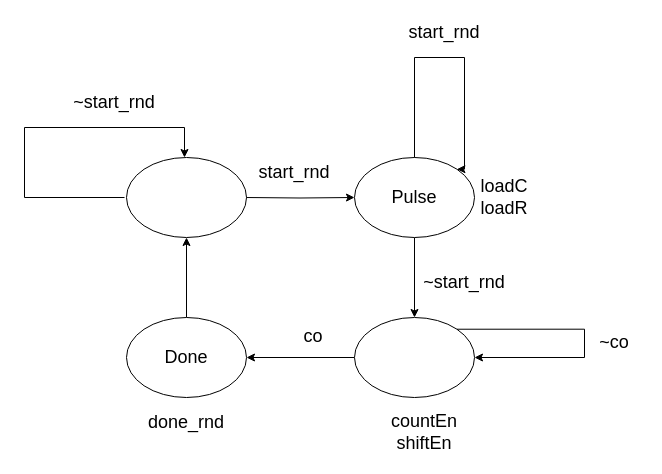
Some shapes in this 662 by 474 pixel diagram are drawn without their labels. The centre of each missing label's shape, as x and y in pixels:
"CountAndShift" goes at point (414, 357).
"Idle" goes at point (186, 197).
